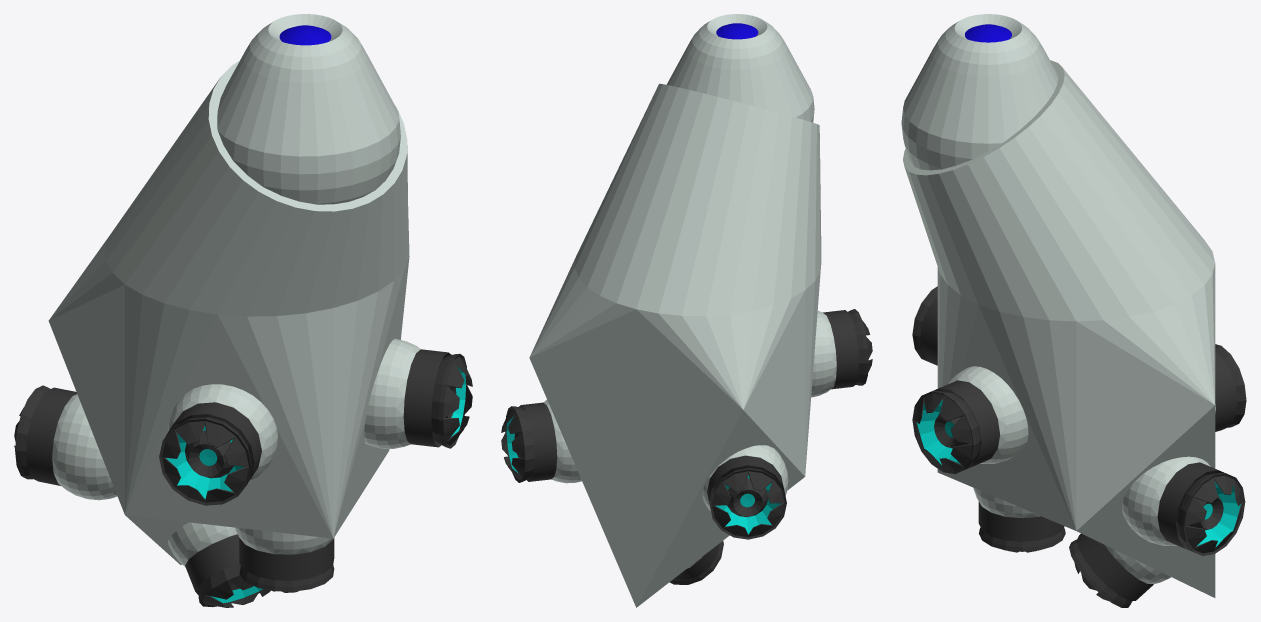
The model's file is Drone.fbx.
3 views of the same model, side by side, from view 1: azimuth 30°, elevation 25°; view 2: azimuth 150°, elevation 25°; view 3: azimuth 270°, elevation 25° (orthographic). The views are drawn at different scales.
Parts seen in each view (by area): view 1: Drone, Core, Truster.003, Truster.004, Truster.001, Truster.005, Truster.002; view 2: Drone, Core, Truster.001, Truster, Truster.003, Truster.002; view 3: Drone, Core, Truster.004, Truster, Truster.002, Truster.005, Truster.001, Truster.003.
Part boxes in pixels (left/top/right/bottom): Drone: left=48, top=60, right=409, bottom=564; Core: left=217, top=14, right=400, bottom=204; Truster.003: left=159, top=384, right=277, bottom=505; Truster.004: left=364, top=339, right=472, bottom=448; Truster.001: left=14, top=385, right=117, bottom=500; Truster.005: left=235, top=527, right=334, bottom=592; Truster.002: left=167, top=522, right=270, bottom=607; Drone: left=529, top=83, right=821, bottom=607; Core: left=666, top=14, right=814, bottom=122; Truster.001: left=702, top=445, right=788, bottom=539; Truster: left=501, top=400, right=581, bottom=483; Truster.003: left=811, top=309, right=872, bottom=397; Truster.002: left=669, top=541, right=723, bottom=584; Drone: left=903, top=60, right=1215, bottom=597; Core: left=901, top=14, right=1058, bottom=170; Truster.004: left=912, top=366, right=1028, bottom=473; Truster: left=1122, top=456, right=1245, bottom=555; Truster.002: left=1069, top=533, right=1170, bottom=607; Truster.005: left=973, top=487, right=1065, bottom=552; Truster.001: left=1215, top=344, right=1246, bottom=431; Truster.003: left=912, top=286, right=937, bottom=365.
Bounding box in the file's own units: 214 × 365 × 198.
